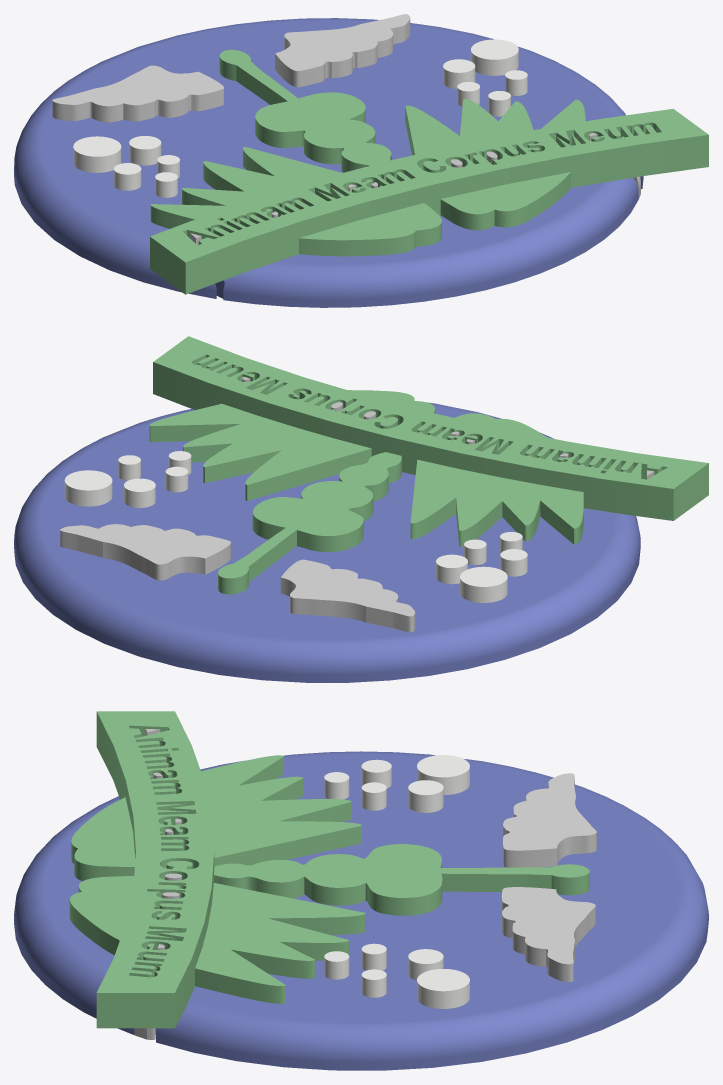
The model's file is coa_14.gltf.
3 views of the same model, one above another, from view 1: azimuth 30°, elevation 25°; view 2: azimuth 150°, elevation 25°; view 3: azimuth 270°, elevation 25° (orthographic). The views are drawn at different scales.
Parts seen in each view (by area): view 1: Body2, Body18, Body6, Body13, Body12, Body16, Body15, Body9, Body8, Body11, Body17, Body10; view 2: Body2, Body18, Body13, Body6, Body16, Body12, Body9, Body15, Body8, Body3, Body17; view 3: Body2, Body18, Body13, Body6, Body16, Body12, Body15, Body9, Body8, Body4, Body17, Body10 (+2 smaller).
Part boxes in pixels (bbox=[...]): Body2: bbox=[14, 18, 643, 307]; Body18: bbox=[150, 49, 708, 294]; Body6: bbox=[52, 65, 223, 122]; Body13: bbox=[275, 14, 410, 87]; Body12: bbox=[73, 136, 121, 172]; Body16: bbox=[470, 39, 518, 75]; Body15: bbox=[129, 136, 161, 165]; Body9: bbox=[443, 59, 475, 88]; Body8: bbox=[114, 163, 141, 190]; Body11: bbox=[155, 172, 177, 197]; Body17: bbox=[505, 70, 527, 95]; Body10: bbox=[488, 91, 510, 116]; Body2: bbox=[14, 402, 640, 682]; Body18: bbox=[149, 336, 708, 594]; Body13: bbox=[60, 524, 230, 580]; Body6: bbox=[280, 559, 415, 632]; Body16: bbox=[64, 470, 112, 506]; Body12: bbox=[460, 566, 507, 602]; Body9: bbox=[124, 478, 155, 507]; Body15: bbox=[436, 554, 467, 584]; Body8: bbox=[500, 549, 527, 576]; Body3: bbox=[165, 466, 188, 492]; Body17: bbox=[118, 455, 140, 480]; Body2: bbox=[14, 751, 708, 1070]; Body18: bbox=[69, 711, 589, 1028]; Body13: bbox=[501, 887, 595, 981]; Body6: bbox=[502, 773, 596, 867]; Body16: bbox=[417, 969, 469, 1008]; Body12: bbox=[417, 755, 469, 794]; Body15: bbox=[408, 780, 443, 812]; Body9: bbox=[408, 949, 443, 980]; Body8: bbox=[361, 759, 391, 788]; Body4: bbox=[361, 782, 386, 810]; Body17: bbox=[361, 969, 386, 997]; Body10: bbox=[324, 951, 349, 979].
Bounding box in the file's own units: 3.55 × 0.4 × 3.55.
